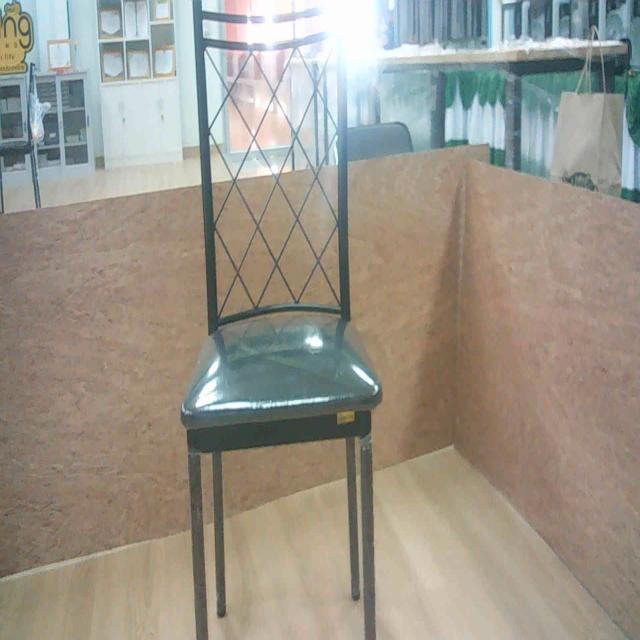emtpy: (180, 0, 387, 640)
